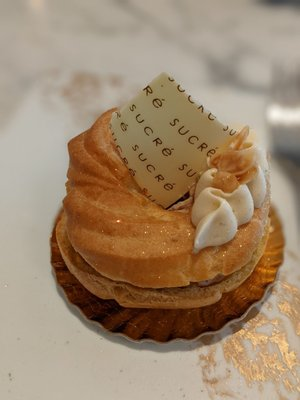soup: (51, 104, 284, 343)
